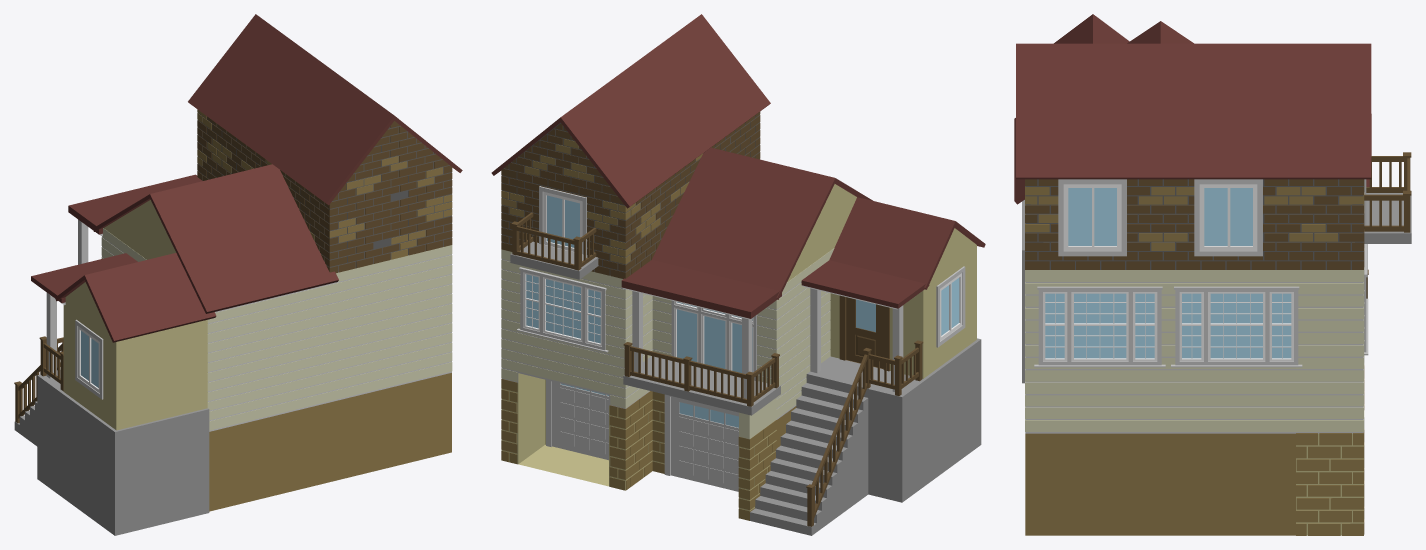
The model's file is house2.glb.
The picture shows the model from 3 angles, left to right: view 1: azimuth 30°, elevation 25°; view 2: azimuth 150°, elevation 25°; view 3: azimuth 270°, elevation 25°; orthographic projection. The views are drawn at different scales.
Visible parts, largest first — view 1: building.048; view 2: building.048; view 3: building.048.
Part boxes in pixels (<box>): building.048: <box>14,14,462,535</box>; building.048: <box>491,14,985,535</box>; building.048: <box>1014,14,1411,535</box>.
Bounding box in the file's own units: 11.4 × 11.1 × 8.8.
1 material, 1 textured.
